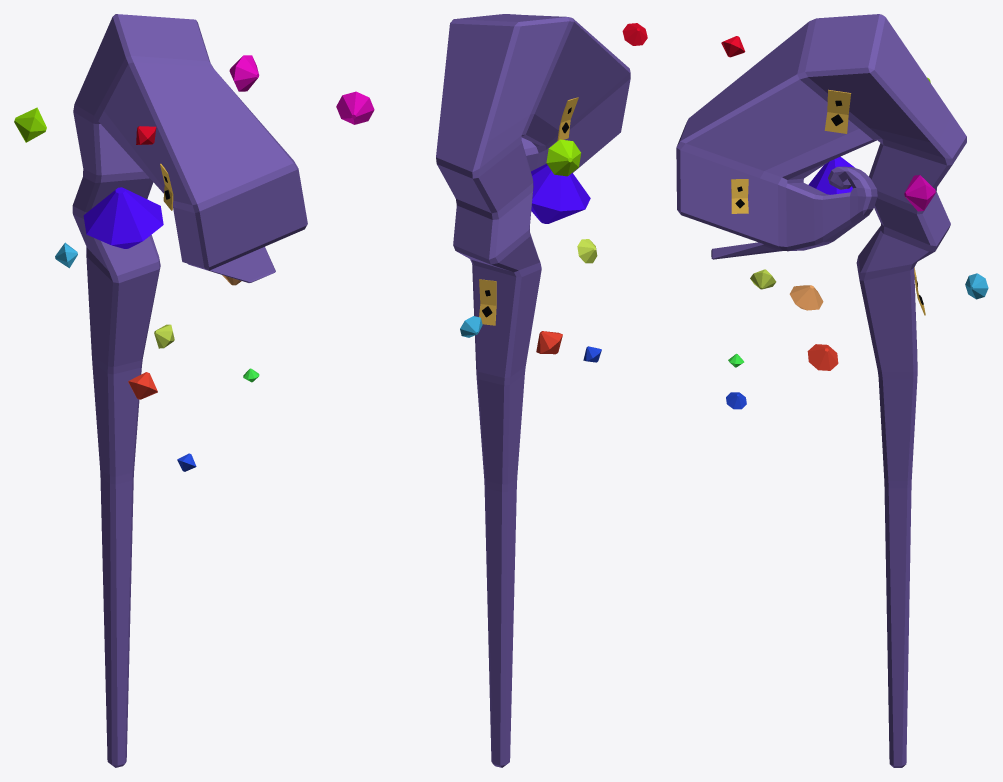
The model's file is Weapon.fbx.
3 renders of one model, left to right at view 1: azimuth 30°, elevation 25°; view 2: azimuth 150°, elevation 25°; view 3: azimuth 270°, elevation 25°, orthographic. The views are drawn at different scales.
Parts seen in each view (by area): view 1: Cube, Cube.001, Cube.006, Cube.005, Cube.004; view 2: Cube, Cube.001, Cube.005, Cube.006, Plane.003; view 3: Cube, Plane.002, Cube.006, Cube.001, Cube.004, Cube.002, Plane.001.
Boxes of the visible parts, bbox=[...] form: Cube: bbox=[72, 14, 307, 767]; Cube.001: bbox=[83, 187, 163, 248]; Cube.006: bbox=[229, 55, 259, 91]; Cube.005: bbox=[14, 107, 46, 142]; Cube.004: bbox=[128, 372, 157, 399]; Cube: bbox=[436, 14, 630, 767]; Cube.001: bbox=[531, 163, 590, 223]; Cube.005: bbox=[546, 139, 581, 176]; Cube.006: bbox=[336, 91, 374, 124]; Plane.003: bbox=[479, 279, 496, 325]; Cube: bbox=[676, 14, 966, 767]; Plane.002: bbox=[824, 89, 851, 133]; Cube.006: bbox=[904, 175, 935, 211]; Cube.001: bbox=[808, 156, 854, 194]; Cube.004: bbox=[807, 344, 838, 370]; Cube.002: bbox=[789, 285, 823, 310]; Plane.001: bbox=[731, 179, 748, 213].
Bounding box in the file's own units: 122 × 365 × 138.
